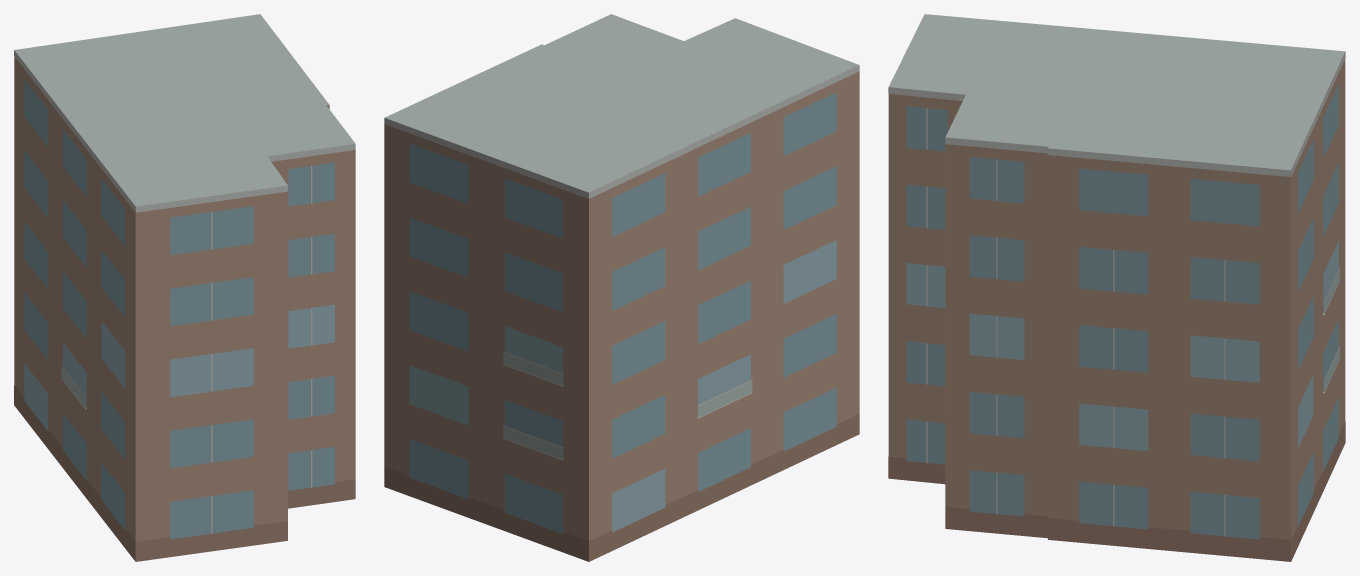
Rendered from survey-upis-33035833.glb.
3 views of the same model, side by side, from view 1: azimuth 30°, elevation 25°; view 2: azimuth 150°, elevation 25°; view 3: azimuth 270°, elevation 25° (orthographic). The views are drawn at different scales.
Visible parts, largest first — view 1: survey-upis-33035833.tmp; view 2: survey-upis-33035833.tmp; view 3: survey-upis-33035833.tmp.
Boxes of the visible parts, x1,y1,x2,y2 form: survey-upis-33035833.tmp: [14, 14, 355, 561]; survey-upis-33035833.tmp: [384, 14, 859, 561]; survey-upis-33035833.tmp: [888, 14, 1345, 561].
Bounding box in the file's own units: 12.27 × 14.3 × 15.14.
